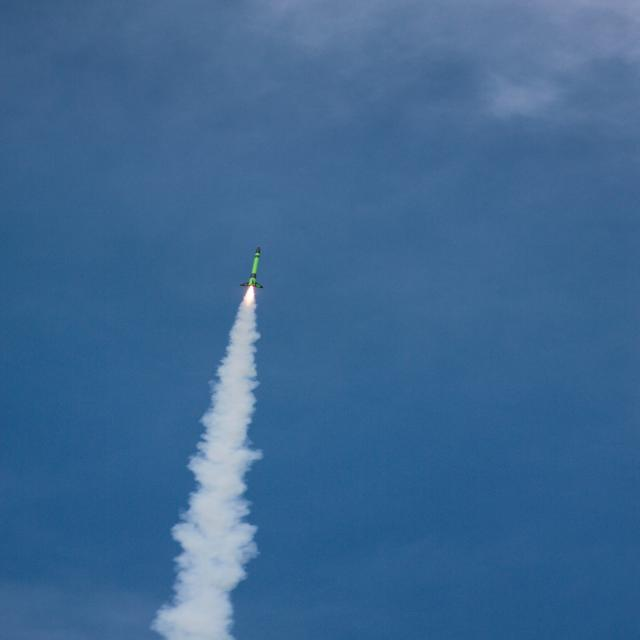Rocket: (239, 245, 264, 289)
